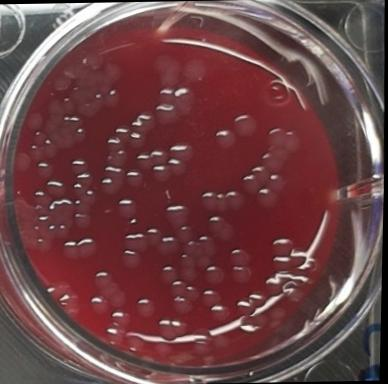vangil: (199, 187, 244, 213), (169, 279, 201, 314), (227, 246, 254, 283), (60, 235, 98, 260), (158, 316, 189, 342), (206, 213, 233, 242), (101, 164, 124, 195), (164, 200, 190, 227), (231, 112, 258, 136), (153, 102, 179, 126), (212, 126, 237, 150), (134, 295, 157, 318), (116, 193, 138, 217), (119, 247, 142, 269), (203, 263, 226, 285), (123, 231, 149, 250), (169, 140, 193, 160), (271, 236, 293, 257), (89, 292, 109, 314), (45, 178, 66, 198), (92, 267, 112, 287), (150, 162, 170, 182), (166, 157, 188, 174), (158, 264, 178, 282), (211, 302, 229, 322), (125, 168, 145, 186), (202, 288, 221, 306), (69, 156, 89, 172), (174, 226, 194, 242)
